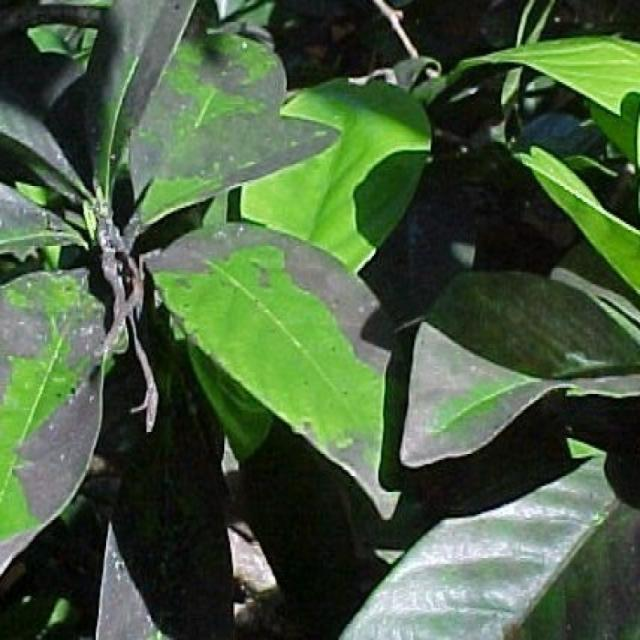Sooty Mold: (15, 0, 573, 640)
